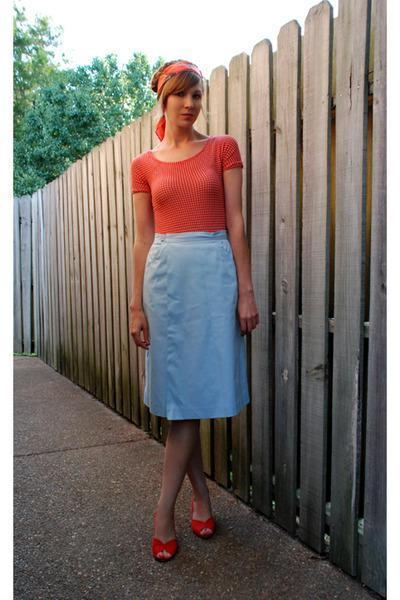short sleeve shirt: (128, 132, 245, 240)
skirt: (138, 230, 250, 421)
